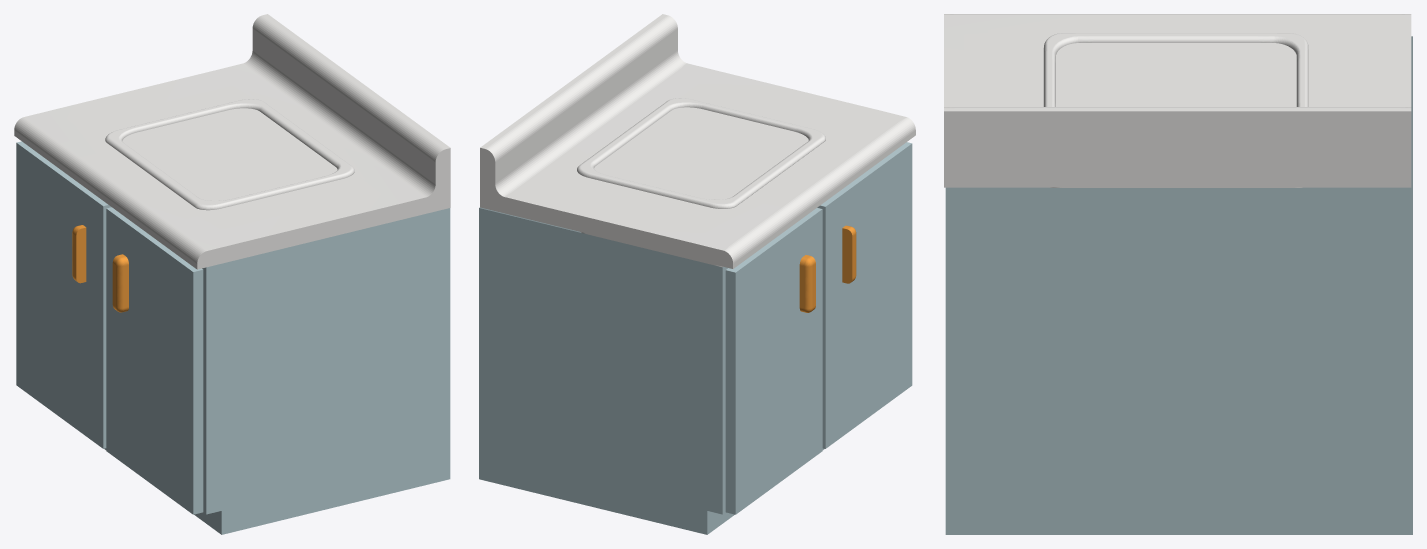
The model's file is countersink-1.fbx.
3 renders of one model, left to right at view 1: azimuth 30°, elevation 25°; view 2: azimuth 150°, elevation 25°; view 3: azimuth 270°, elevation 25°, orthographic. The views are drawn at different scales.
Visible parts, largest first — view 1: counter-sink; view 2: counter-sink; view 3: counter-sink.
Boxes of the visible parts, <box> form: counter-sink: <box>14,14,450,534</box>; counter-sink: <box>479,14,915,534</box>; counter-sink: <box>944,14,1412,534</box>.
Size of the model in its own units: 500 by 600 by 602.
